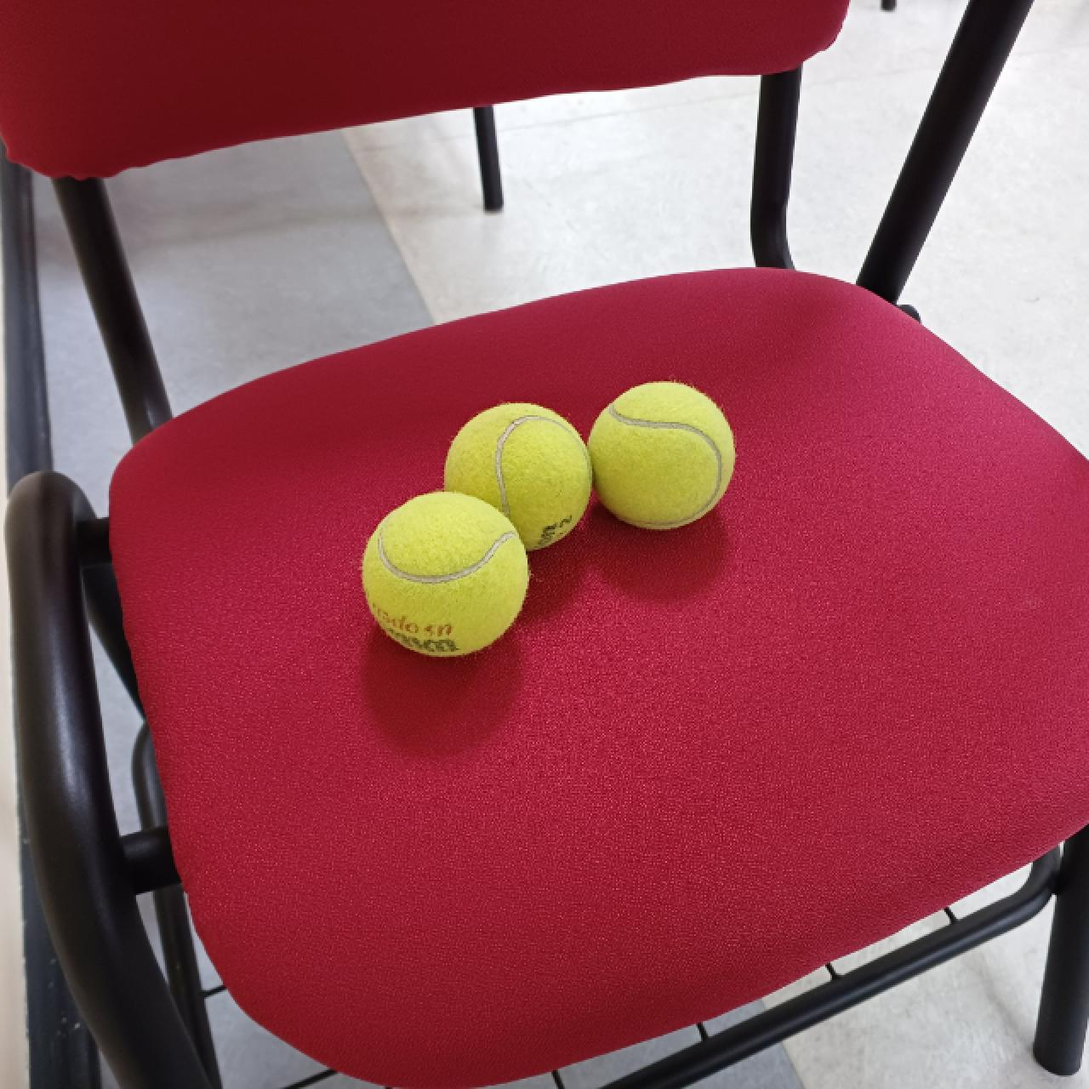tennis-ball: (362, 490, 532, 661), (584, 379, 739, 535), (445, 402, 594, 555)
